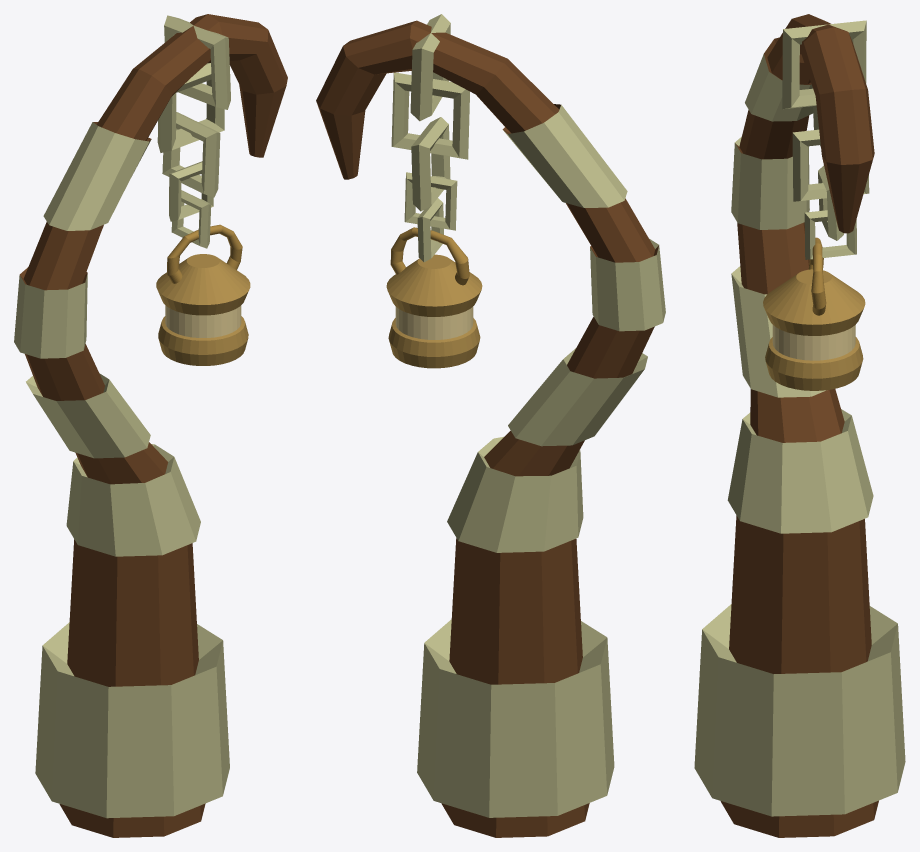
Rendered from LIGHT 1.fbx.
3 views of the same model, side by side, from view 1: azimuth 30°, elevation 25°; view 2: azimuth 150°, elevation 25°; view 3: azimuth 270°, elevation 25° (orthographic). The views are drawn at different scales.
Parts seen in each view (by area): view 1: LIGHT; view 2: LIGHT; view 3: LIGHT.
Boxes of the visible parts, bbox=[...] form: LIGHT: bbox=[14, 14, 287, 837]; LIGHT: bbox=[316, 14, 665, 837]; LIGHT: bbox=[694, 14, 905, 837].
Bounding box in the file's own units: 185 × 445 × 103.
